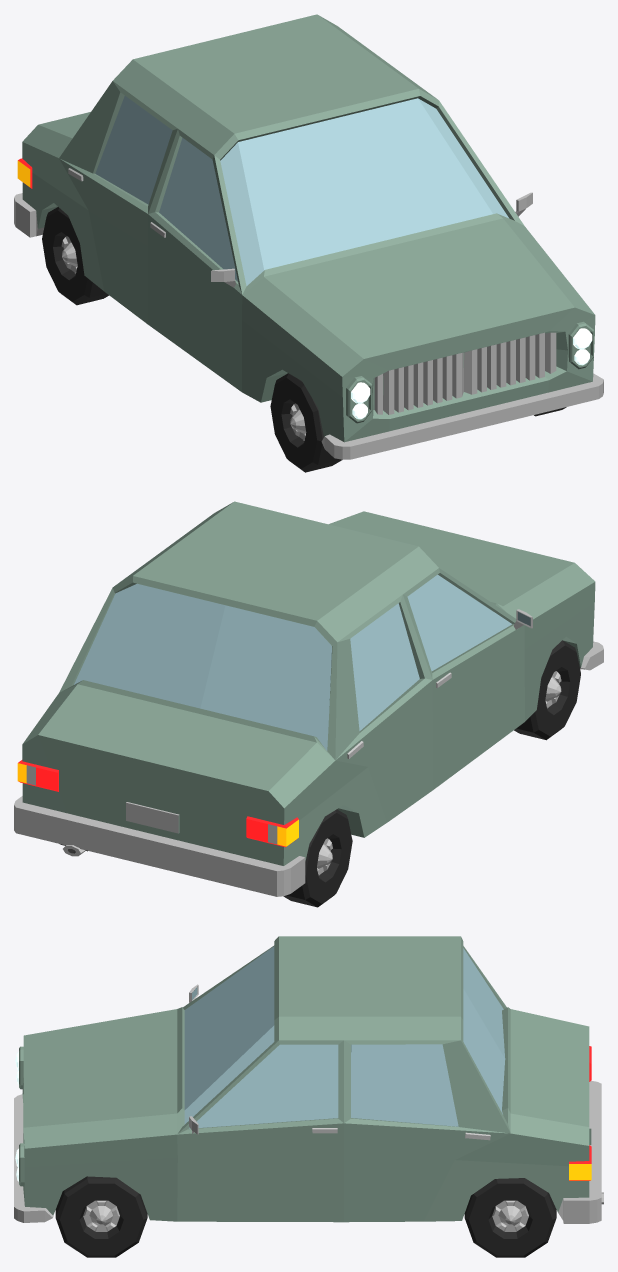
The model's file is Sedan.fbx.
3 views of the same model, one above another, from view 1: azimuth 30°, elevation 25°; view 2: azimuth 150°, elevation 25°; view 3: azimuth 270°, elevation 25° (orthographic). The views are drawn at different scales.
Visible parts, largest first — view 1: Sedan, Wheel.FR, Wheel.RR, Headlights; view 2: Sedan, Wheel.RR, Wheel.FR; view 3: Sedan, Wheel.FL, Wheel.RL.
Boxes of the visible parts, <box> form: Sedan: <box>14,14,603,459</box>; Wheel.FR: <box>270,373,342,472</box>; Wheel.RR: <box>42,207,108,305</box>; Headlights: <box>351,328,592,419</box>; Sedan: <box>14,501,603,896</box>; Wheel.RR: <box>283,809,352,907</box>; Wheel.FR: <box>514,640,580,740</box>; Sedan: <box>14,936,601,1223</box>; Wheel.FL: <box>55,1176,147,1257</box>; Wheel.RL: <box>464,1178,556,1257</box>.
Size of the model in its own units: 200 by 149 by 354.
